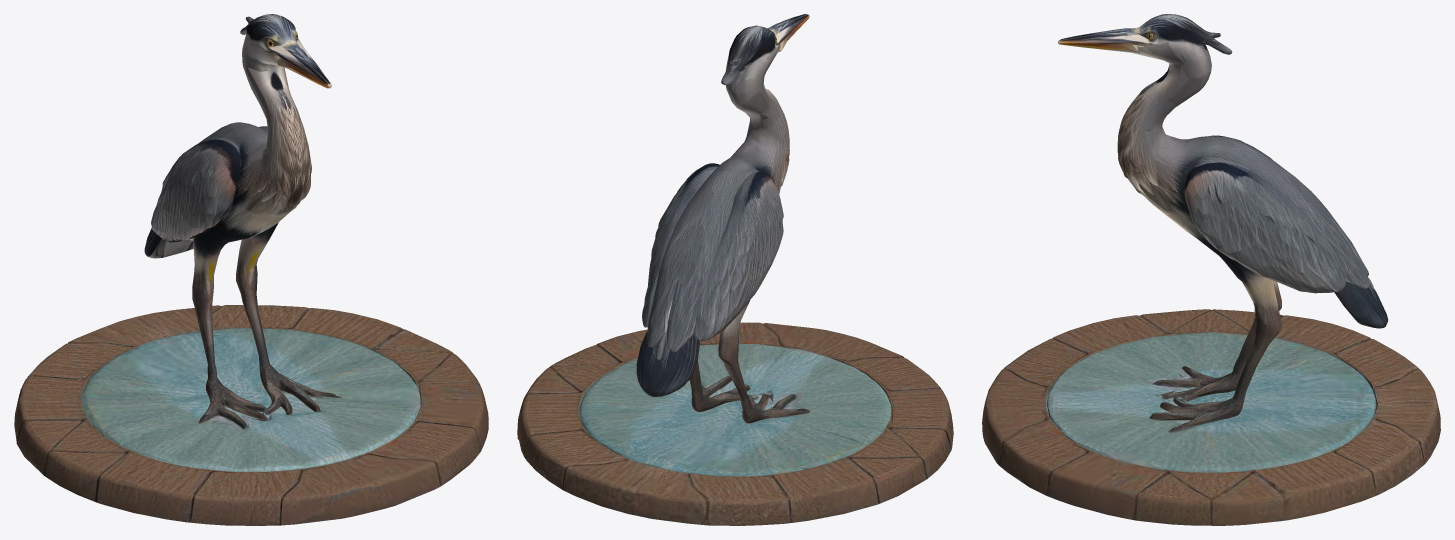
File: lm_zona_umida.glb
The picture shows the model from 3 angles, left to right: view 1: azimuth 30°, elevation 25°; view 2: azimuth 150°, elevation 25°; view 3: azimuth 270°, elevation 25°; orthographic projection. The views are drawn at different scales.
Size of the model in its own units: 1.73 by 1.69 by 1.7.
Materials: 1 (1 with a texture image).
